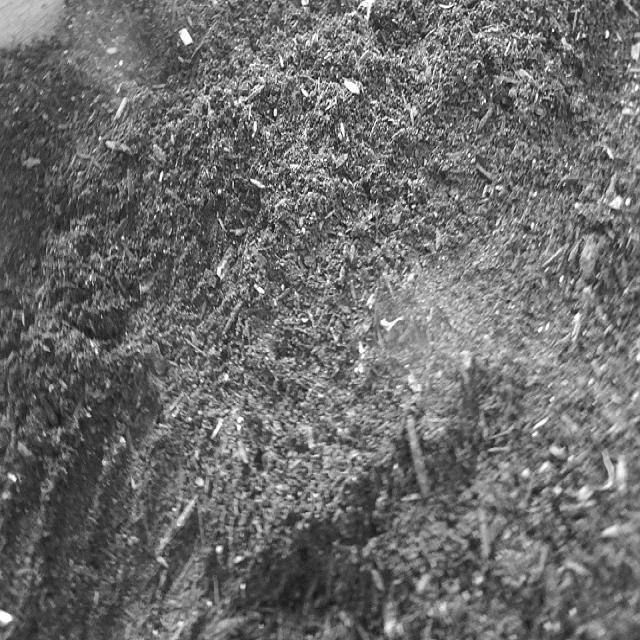Unhealthy: (375, 302, 411, 344)
